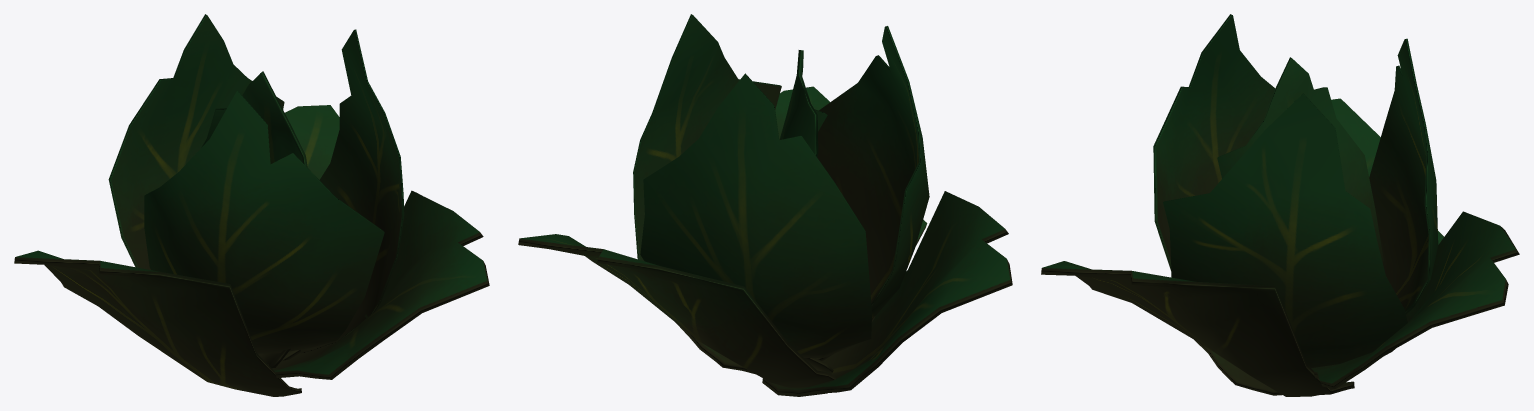
File: couve inteira v0.1.fbx
The picture shows the model from 3 angles, left to right: view 1: azimuth 30°, elevation 25°; view 2: azimuth 150°, elevation 25°; view 3: azimuth 270°, elevation 25°; orthographic projection. The views are drawn at different scales.
Visible parts, largest first — view 1: couve7:Group9322, couve2:Group49040, couve5:Group61990, couve, couve6:Group18729, couve1:Group41100, couve3:Group49040; view 2: couve5:Group61990, couve7:Group9322, couve2:Group49040, couve3:Group49040, couve6:Group18729, couve1:Group41100, couve; view 3: couve6:Group18729, couve, couve7:Group9322, couve5:Group61990, couve3:Group49040, couve1:Group41100, couve2:Group49040.
Boxes of the visible parts, x1=… form: couve7:Group9322: x1=144, y1=90, x2=384, y2=353; couve2:Group49040: x1=14, y1=250, x2=301, y2=396; couve5:Group61990: x1=108, y1=14, x2=284, y2=269; couve: x1=268, y1=190, x2=489, y2=379; couve6:Group18729: x1=300, y1=29, x2=404, y2=354; couve1:Group41100: x1=201, y1=71, x2=307, y2=368; couve3:Group49040: x1=282, y1=105, x2=339, y2=360; couve5:Group61990: x1=640, y1=73, x2=871, y2=358; couve7:Group9322: x1=817, y1=26, x2=929, y2=318; couve2:Group49040: x1=762, y1=191, x2=1012, y2=396; couve3:Group49040: x1=518, y1=234, x2=835, y2=387; couve6:Group18729: x1=633, y1=14, x2=781, y2=260; couve1:Group41100: x1=779, y1=50, x2=833, y2=374; couve: x1=675, y1=86, x2=927, y2=374; couve6:Group18729: x1=1163, y1=93, x2=1407, y2=367; couve: x1=1041, y1=261, x2=1354, y2=396; couve7:Group9322: x1=1153, y1=14, x2=1275, y2=270; couve5:Group61990: x1=1369, y1=38, x2=1438, y2=314; couve3:Group49040: x1=1311, y1=211, x2=1519, y2=389; couve1:Group41100: x1=1217, y1=57, x2=1383, y2=262; couve2:Group49040: x1=1194, y1=98, x2=1443, y2=395.
Size of the model in its own units: 45.68 by 35.91 by 44.64.
Materials: 1 (1 with a texture image).
